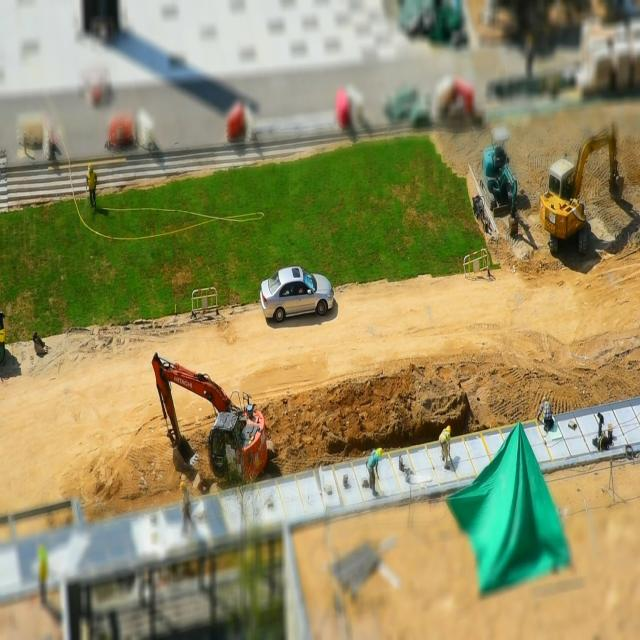machinery: (152, 344, 275, 478)
